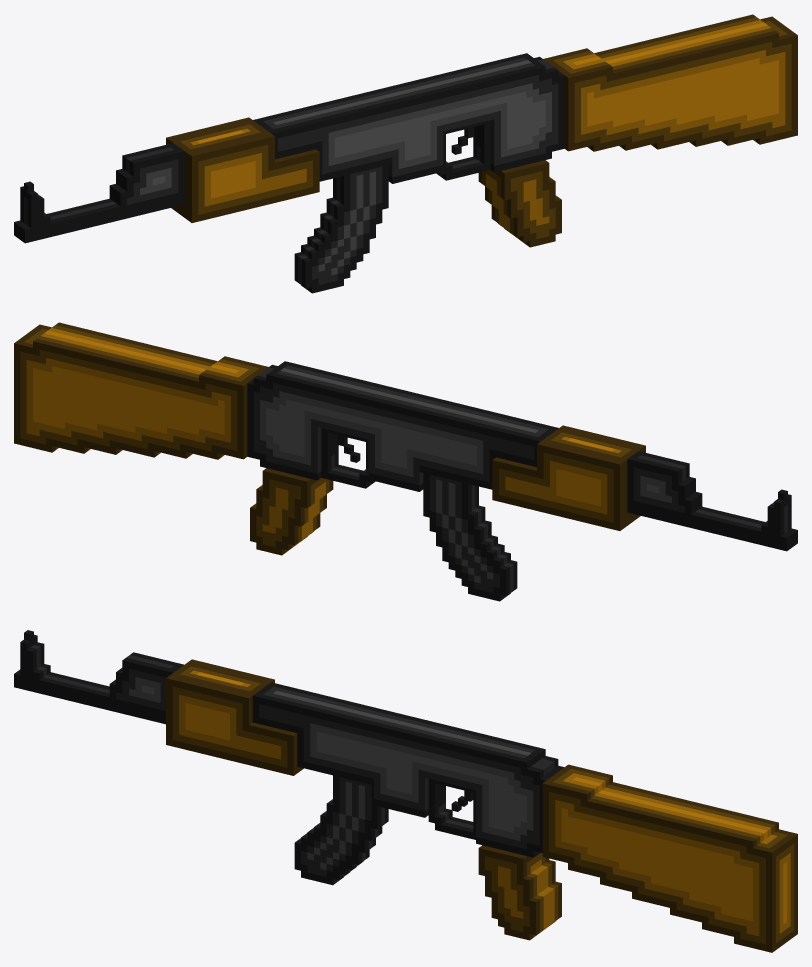
The picture shows the model from 3 angles, top to bottom: view 1: azimuth 30°, elevation 25°; view 2: azimuth 150°, elevation 25°; view 3: azimuth 330°, elevation 25°; orthographic projection.
Parts seen in each view (by area): view 1: AK-47(Base); view 2: AK-47(Base); view 3: AK-47(Base).
Part boxes in pixels (bbox=[...]): AK-47(Base): bbox=[14, 14, 797, 293]; AK-47(Base): bbox=[14, 322, 797, 601]; AK-47(Base): bbox=[14, 630, 797, 952].
Size of the model in its own units: 12 by 2.6 by 0.7.
